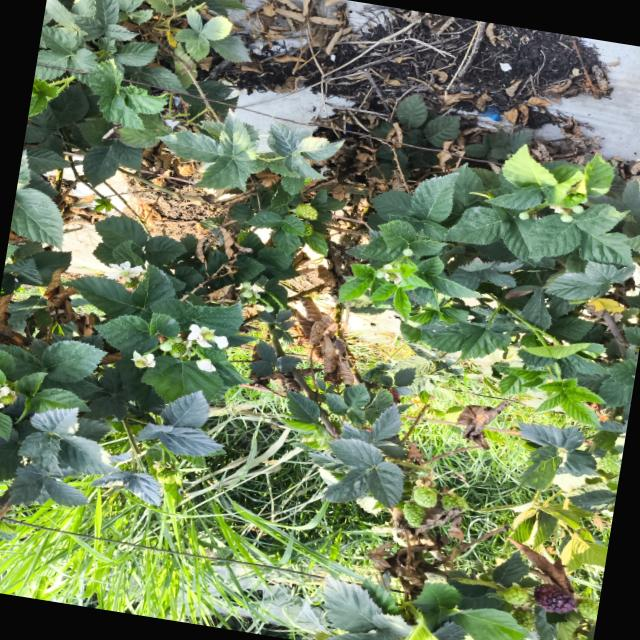marron: (534, 585, 576, 614)
verde: (500, 585, 529, 605), (403, 502, 425, 527), (513, 609, 535, 632), (413, 487, 437, 508), (441, 494, 468, 512), (577, 599, 599, 621), (295, 204, 318, 220), (170, 343, 186, 358), (304, 223, 313, 237)
